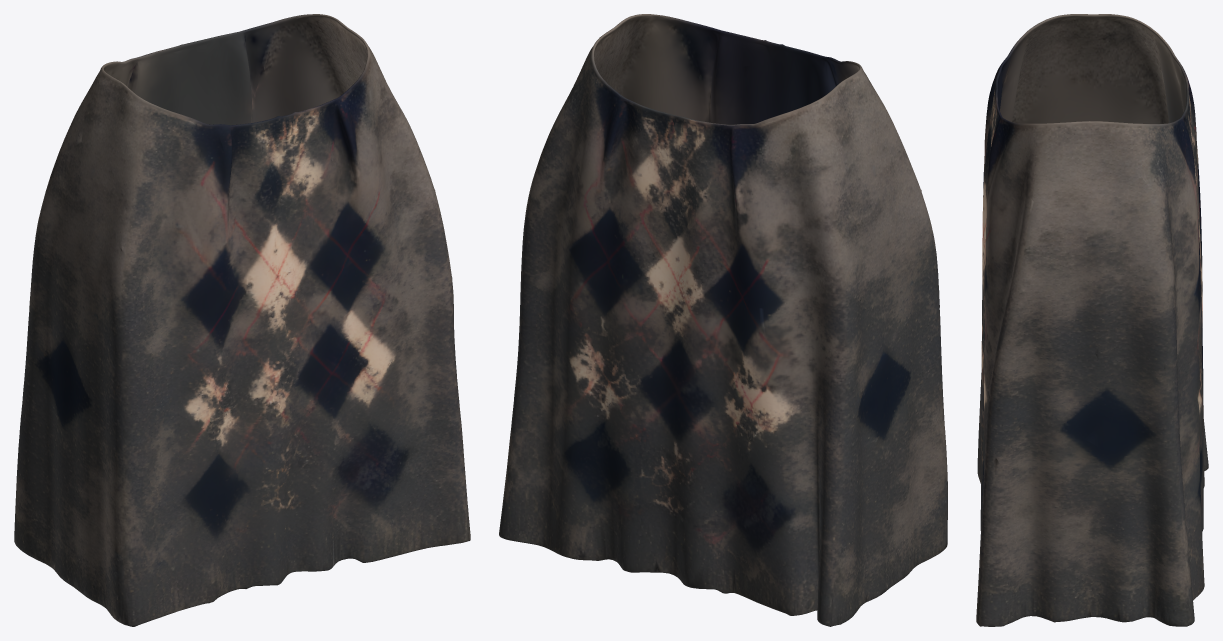
The model's file is checked-knit-skirt.glb.
3 views of the same model, side by side, from view 1: azimuth 30°, elevation 25°; view 2: azimuth 150°, elevation 25°; view 3: azimuth 270°, elevation 25° (orthographic). The views are drawn at different scales.
Visible parts, largest first — view 1: node_0; view 2: node_0; view 3: node_0.
Part boxes in pixels (x1,y1,x2,y2): node_0: (14, 14, 470, 626); node_0: (499, 14, 947, 626); node_0: (976, 14, 1208, 626).
Bounding box in the file's own units: 0.6897 × 0.9292 × 0.4083.
Materials: 1 (1 with a texture image).
